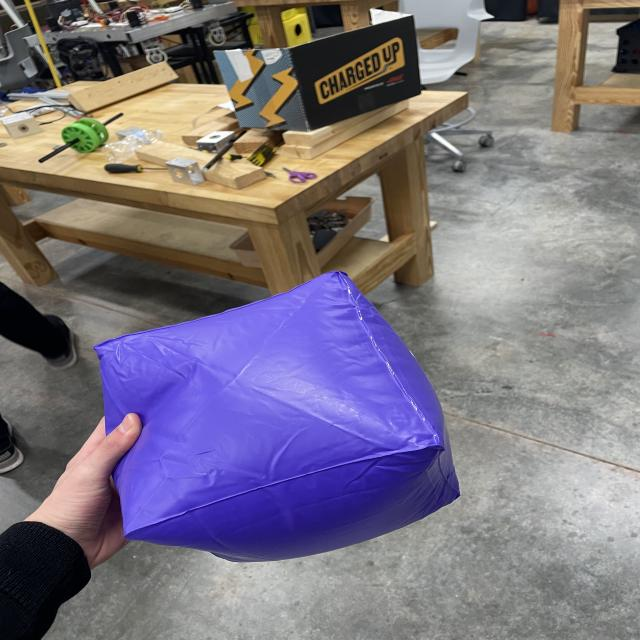frc_cube: (93, 268, 460, 567)
